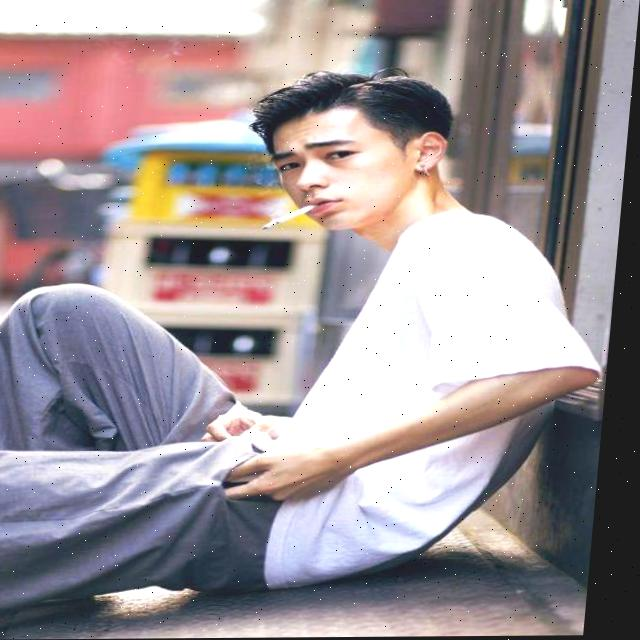cigarette: (265, 205, 322, 233)
